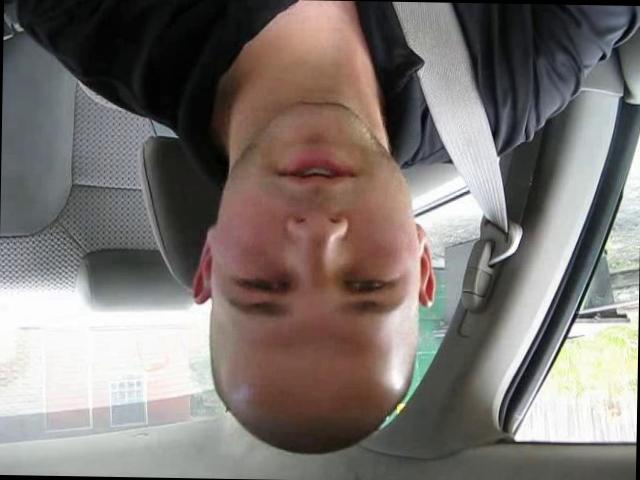eye_open: (231, 264, 300, 300), (339, 266, 402, 300)
face: (210, 98, 422, 341)
